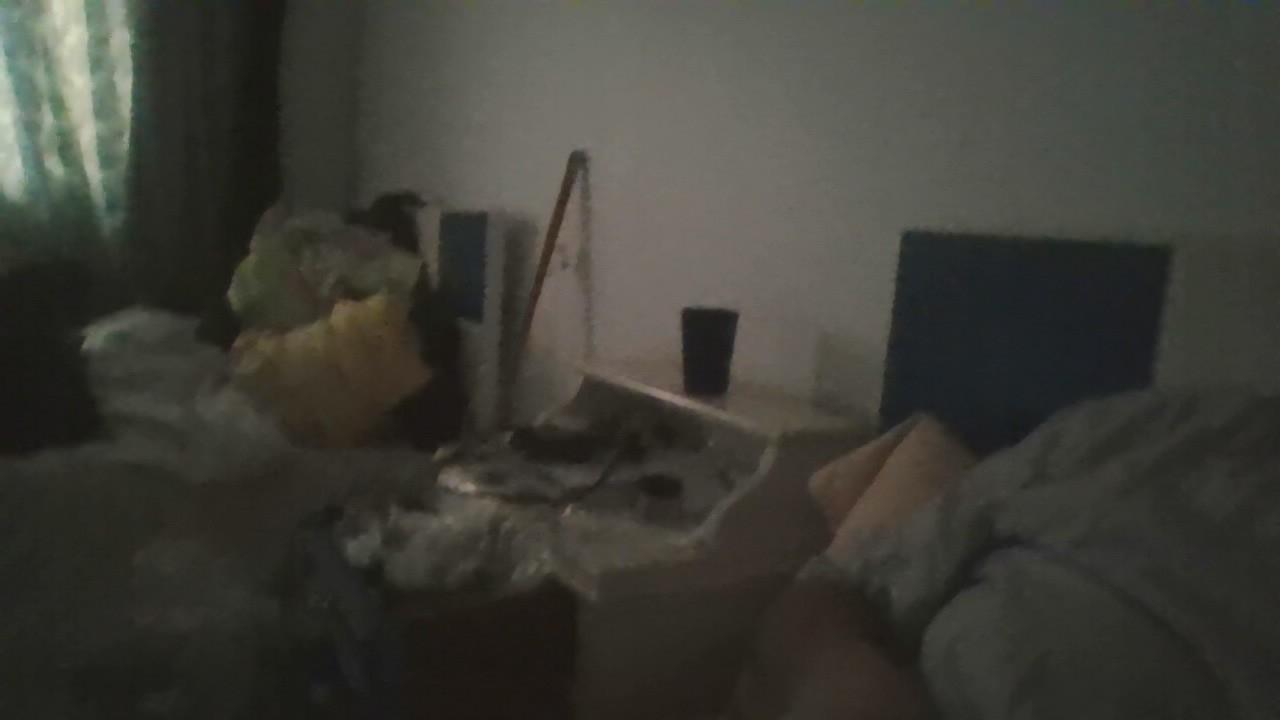cup: (681, 306, 739, 397)
